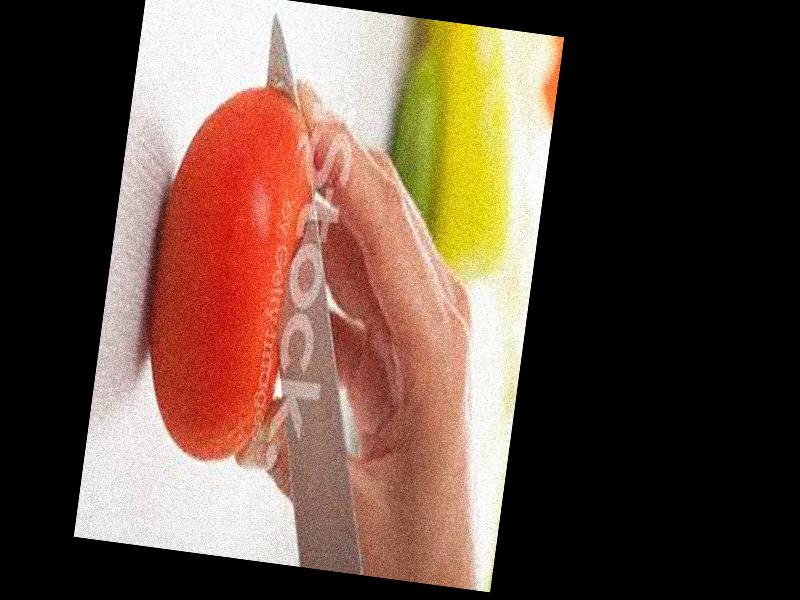Tomato: (127, 75, 323, 474)
